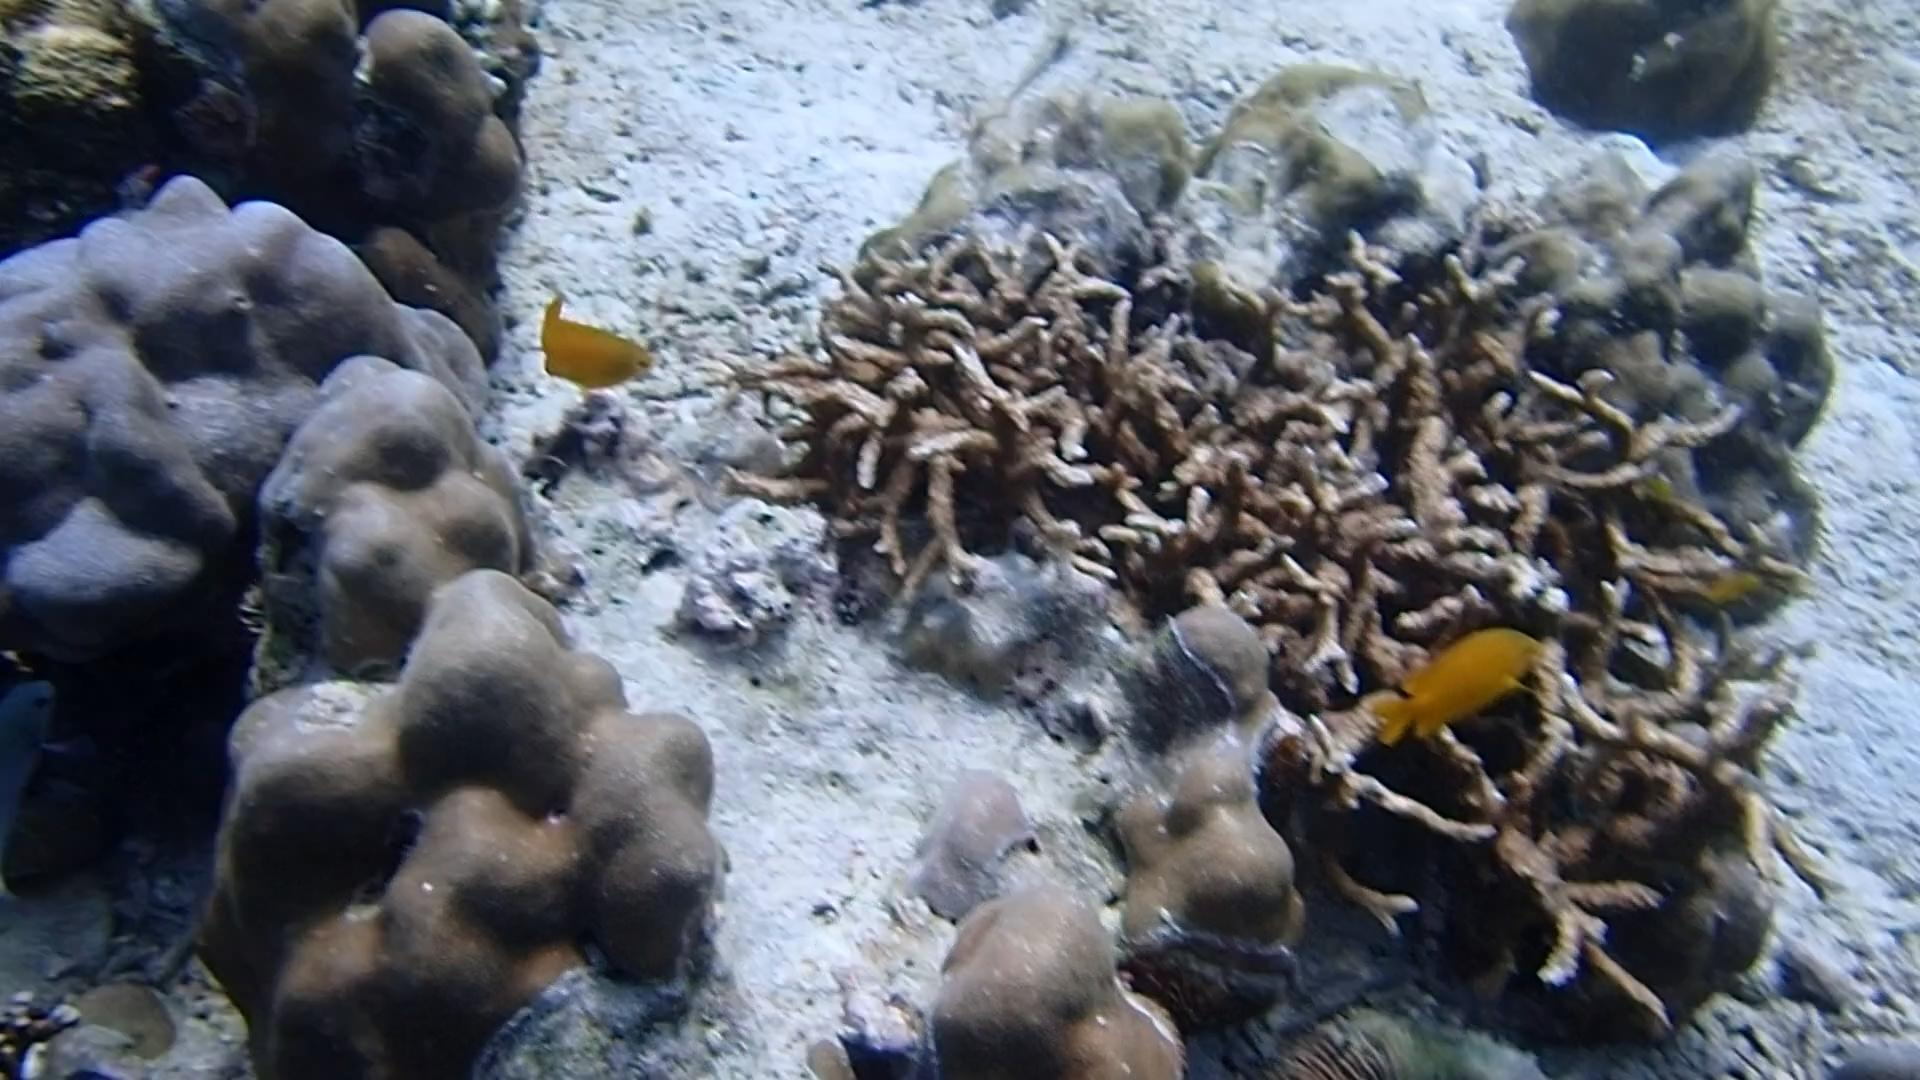Blue Fish Two: (0, 657, 95, 915)
Yellow Fish: (1358, 618, 1547, 753), (530, 287, 653, 397)
